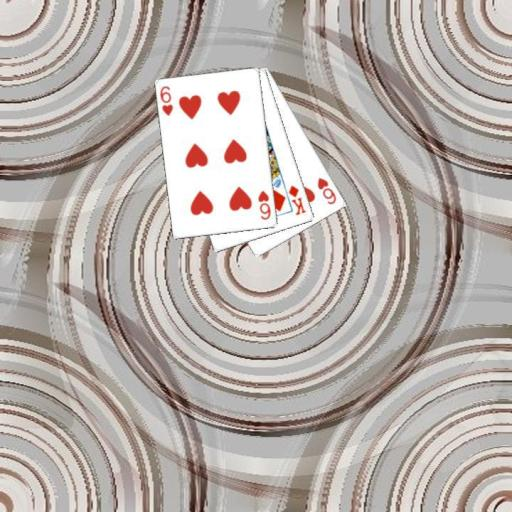6H: (314, 174, 338, 206), (256, 188, 273, 222), (157, 84, 174, 118)
KD: (285, 182, 307, 217)
